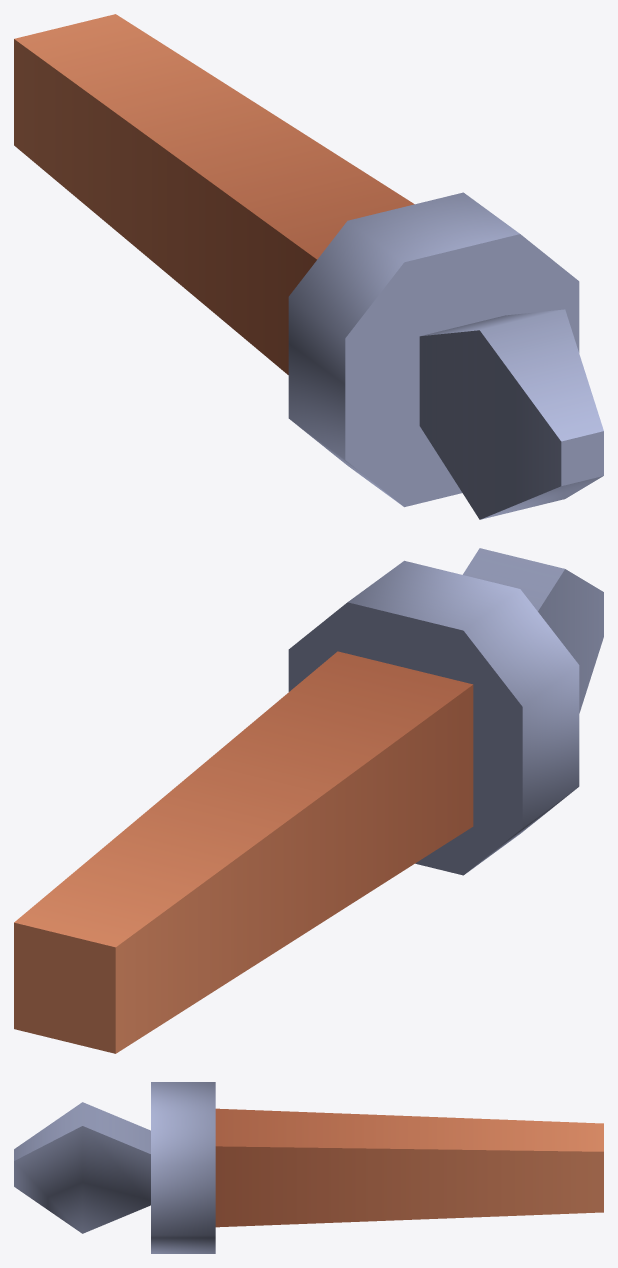
Rendered from weapon-arrow.glb.
The picture shows the model from 3 angles, top to bottom: view 1: azimuth 30°, elevation 25°; view 2: azimuth 150°, elevation 25°; view 3: azimuth 270°, elevation 25°; orthographic projection. The views are drawn at different scales.
Parts seen in each view (by area): view 1: weapon-arrow; view 2: weapon-arrow; view 3: weapon-arrow.
Boxes of the visible parts, <box> form: weapon-arrow: <box>14,14,603,519</box>; weapon-arrow: <box>14,548,603,1053</box>; weapon-arrow: <box>14,1082,603,1253</box>.
Size of the model in its own units: 0.119 by 0.119 by 0.4559.
1 material, 1 textured.
